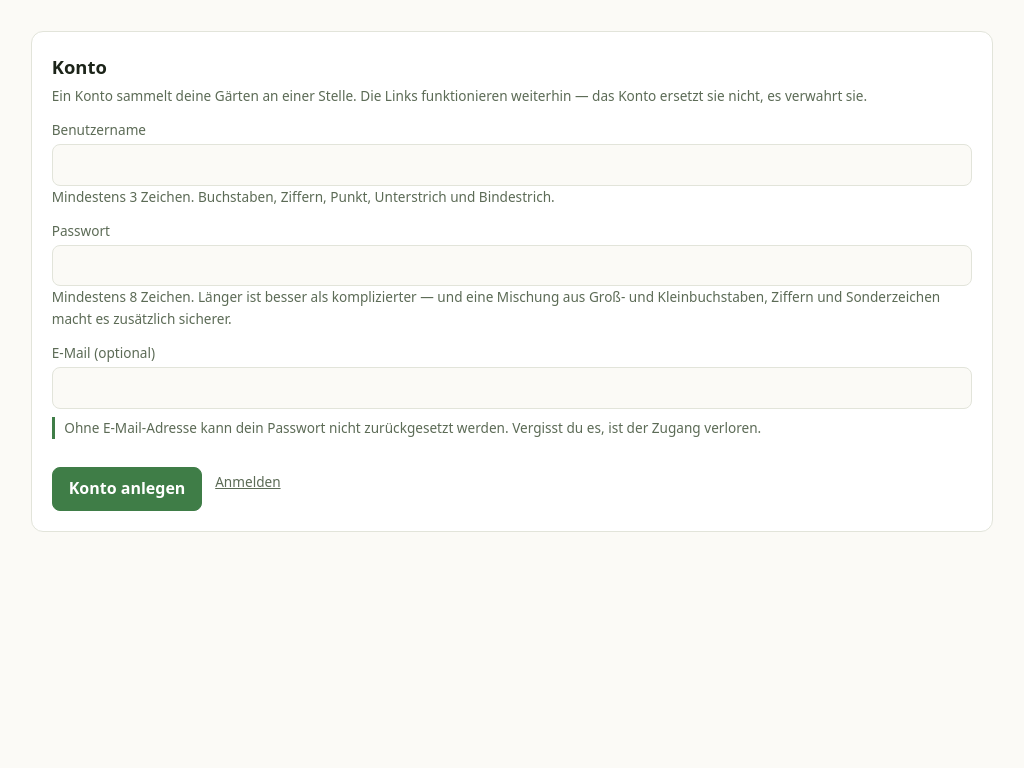
AccountPanel — the rules, where the field is › says which characters a username may hold
Type "jan werth" into the field labelled "Benutzername" at [512, 165], box x1=52 y1=144 x2=972 y2=186
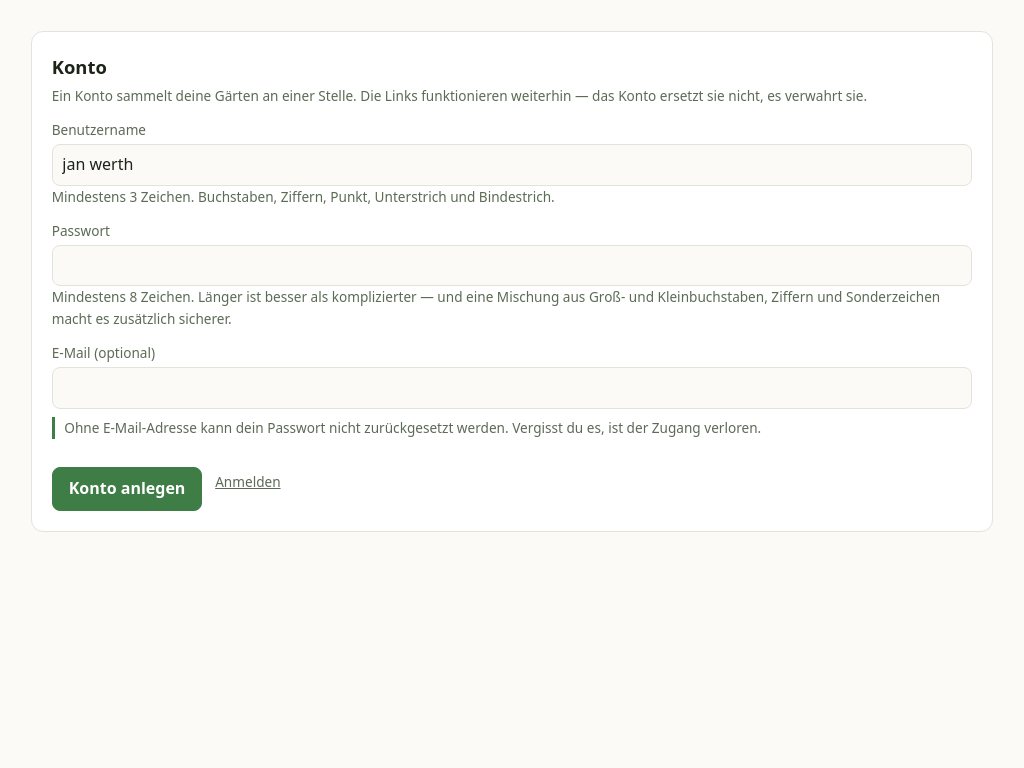
Type "genug lang" into the password field labelled "Passwort" at [512, 266], box x1=52 y1=244 x2=972 y2=286
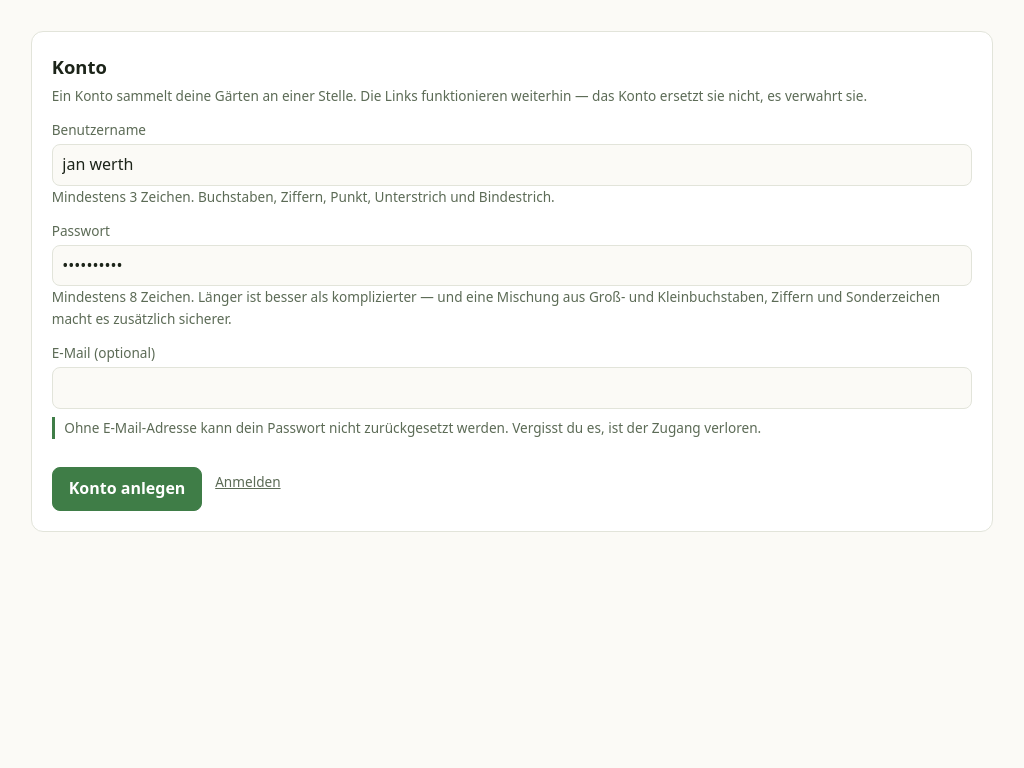
Click the button "Konto anlegen" at [127, 489], box x1=52 y1=467 x2=202 y2=511
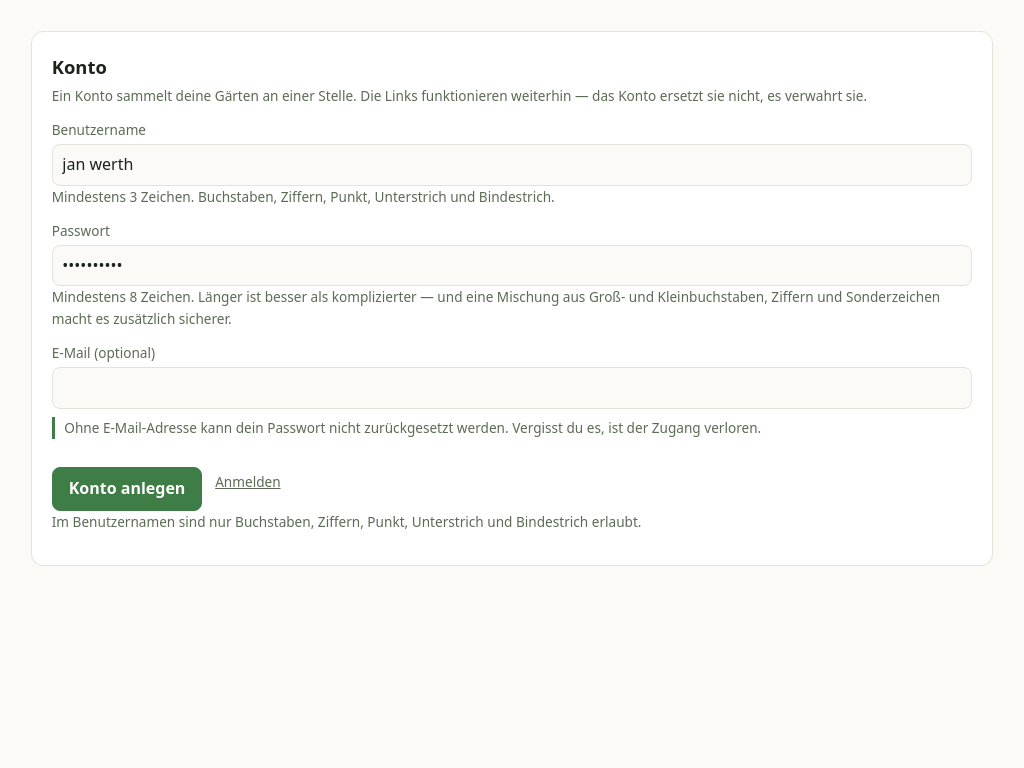
Expected: the message shows "nur Buchstaben", x1=52 y1=512 x2=642 y2=531
